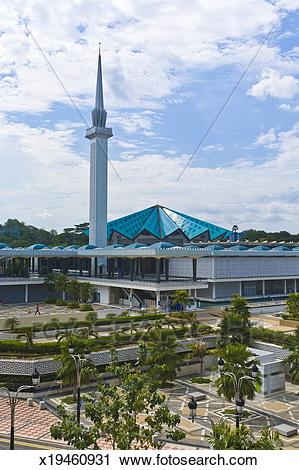Mosque: (79, 45, 231, 241)
